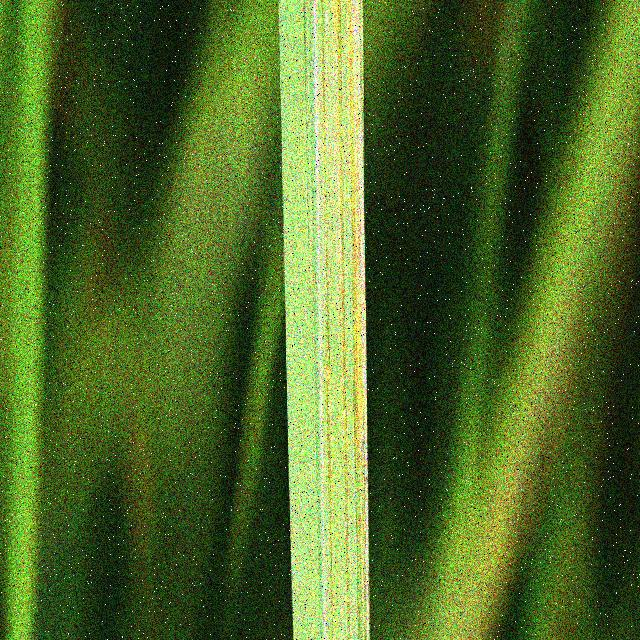BLS: (347, 0, 369, 640), (332, 0, 351, 640), (321, 0, 334, 640), (304, 0, 310, 290)
